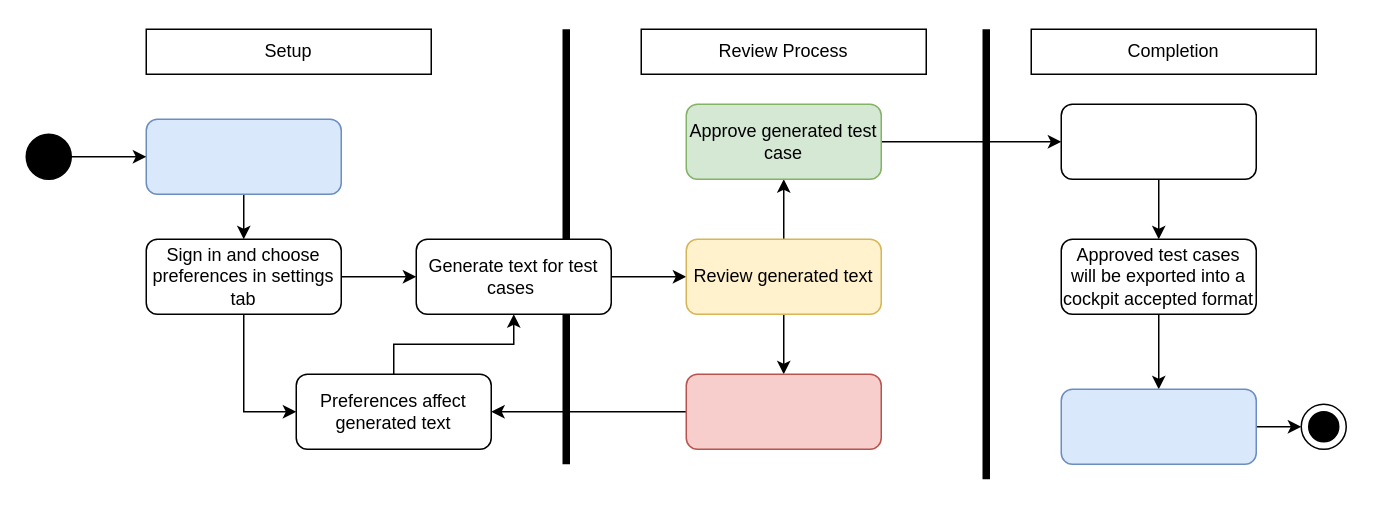
This 1373x510 diagram has some shape labels left out. Each missing label, with the centre of its shape:
Export button is enabled after at least one Approval: (1158,141)
Reject generated test case: (783,411)
Upload generated test cases file to cockpit: (1158,426)
Upload test case requirements and descriptions: (243,156)
